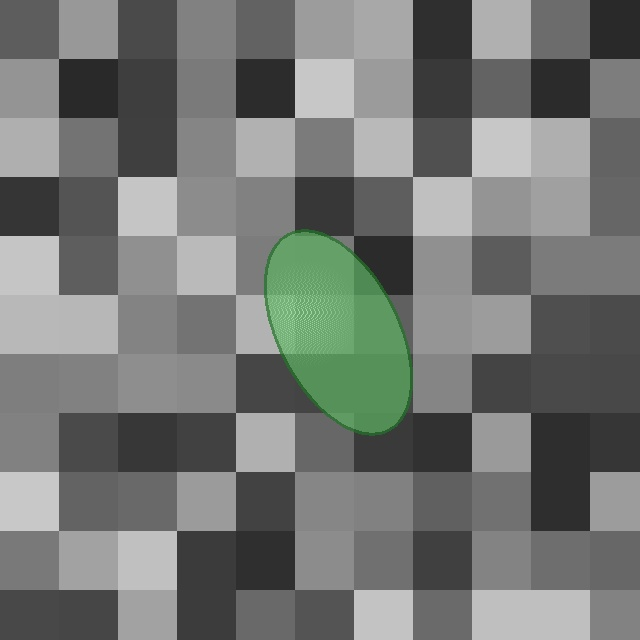lens: (265, 230, 411, 434)
